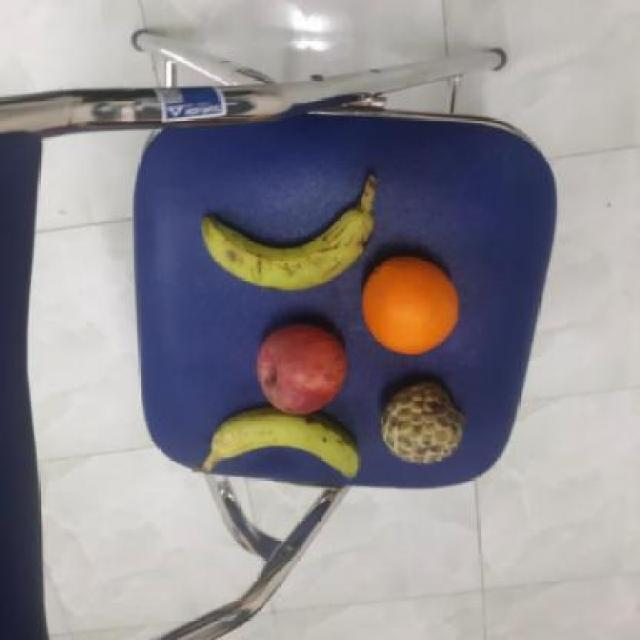apple: (252, 320, 352, 417)
banana: (199, 200, 376, 297), (206, 408, 372, 492)
oren: (358, 253, 465, 358)
sugar apple: (378, 384, 464, 468)
